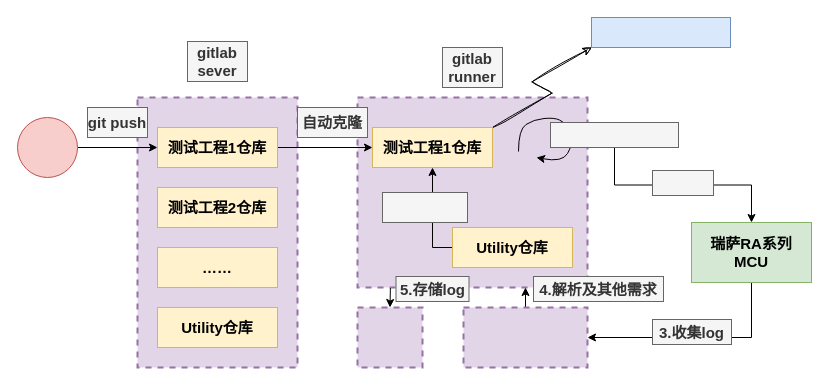
Some shapes in this 829 by 386 pixel diagram are drawn without their labels. Each missing label, with the box of its shape:
.gitlab_cicd.yml: (590, 16, 730, 48)
1.编译成hex文件: (550, 122, 678, 148)
2.烧录: (652, 170, 714, 196)
Greentea: (462, 306, 588, 368)
RGW: (356, 306, 423, 368)
submodule: (382, 192, 468, 222)
开始: (16, 116, 78, 178)
